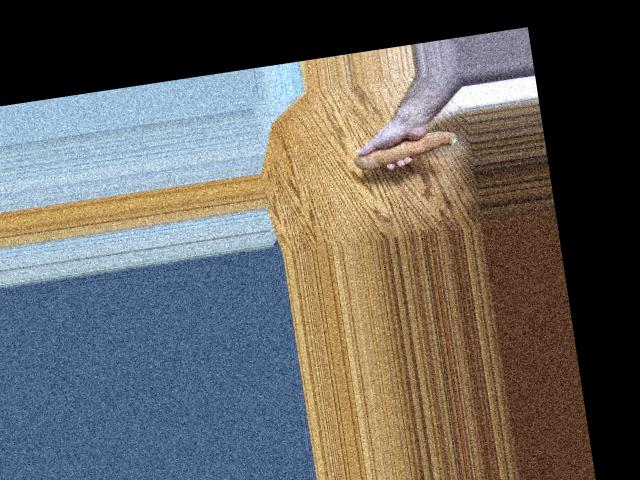sweet_potato: (353, 126, 459, 175)
